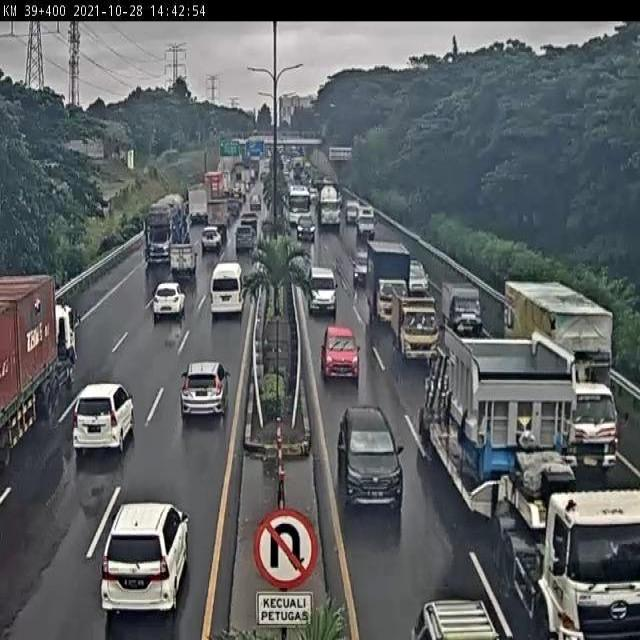big truck: (419, 329, 640, 640), (504, 277, 620, 472), (143, 192, 191, 261)
car: (99, 501, 189, 620), (336, 403, 405, 516), (70, 377, 136, 452), (182, 362, 230, 422), (319, 324, 362, 383), (211, 261, 247, 316), (308, 265, 340, 315), (152, 279, 186, 317)
small truck: (391, 284, 444, 361), (367, 237, 411, 328)
